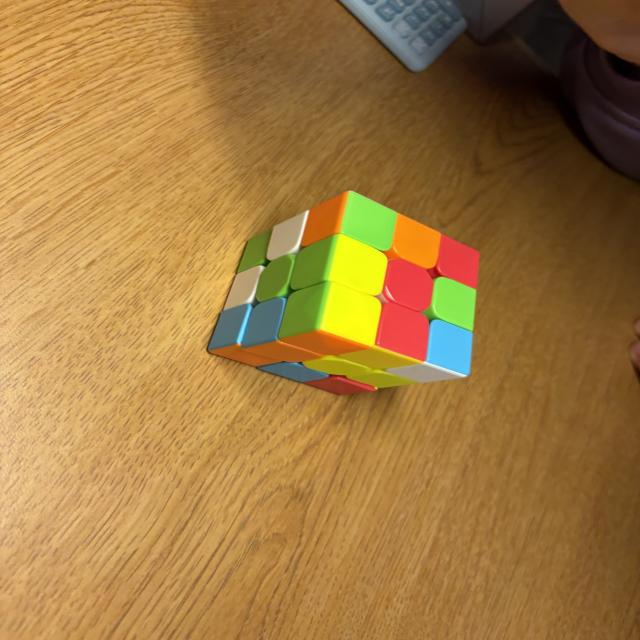Rubiks Cube: (211, 191, 477, 398)
